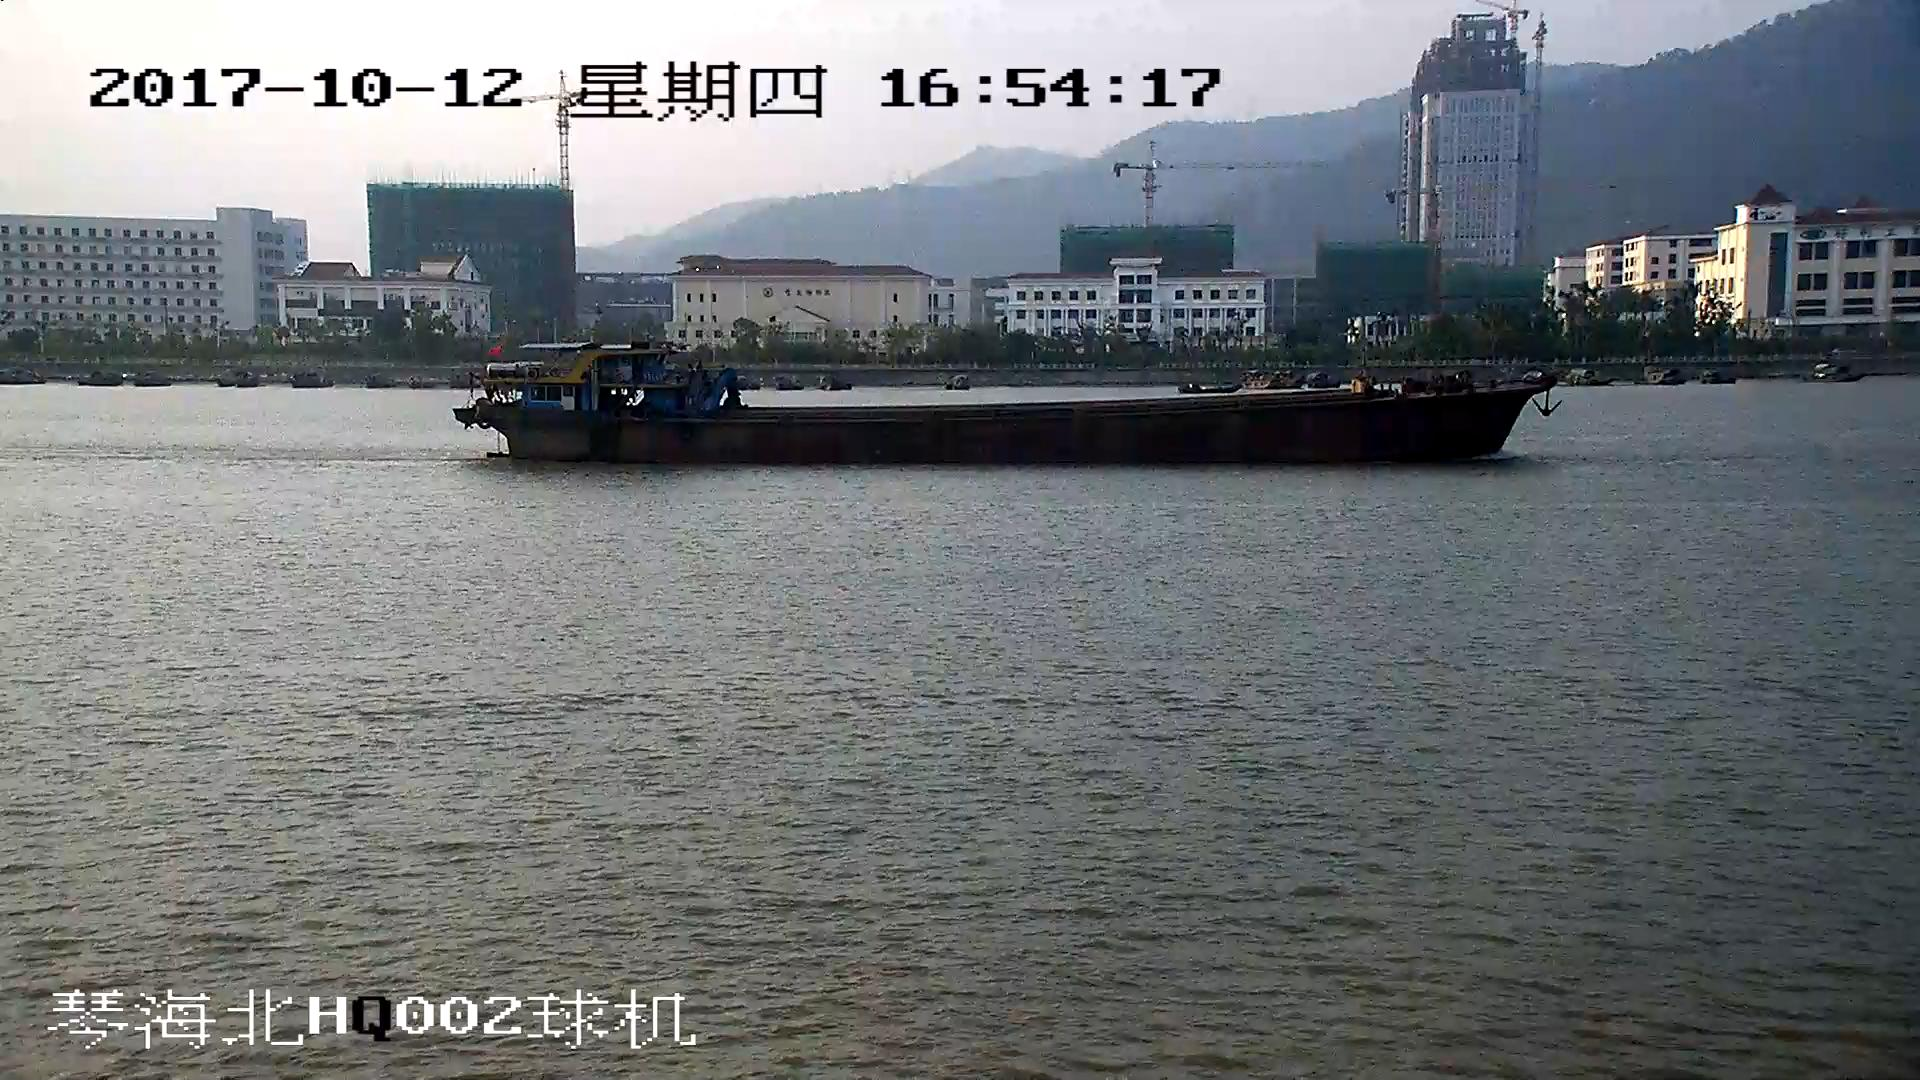bulk cargo carrier: (454, 333, 1555, 467)
